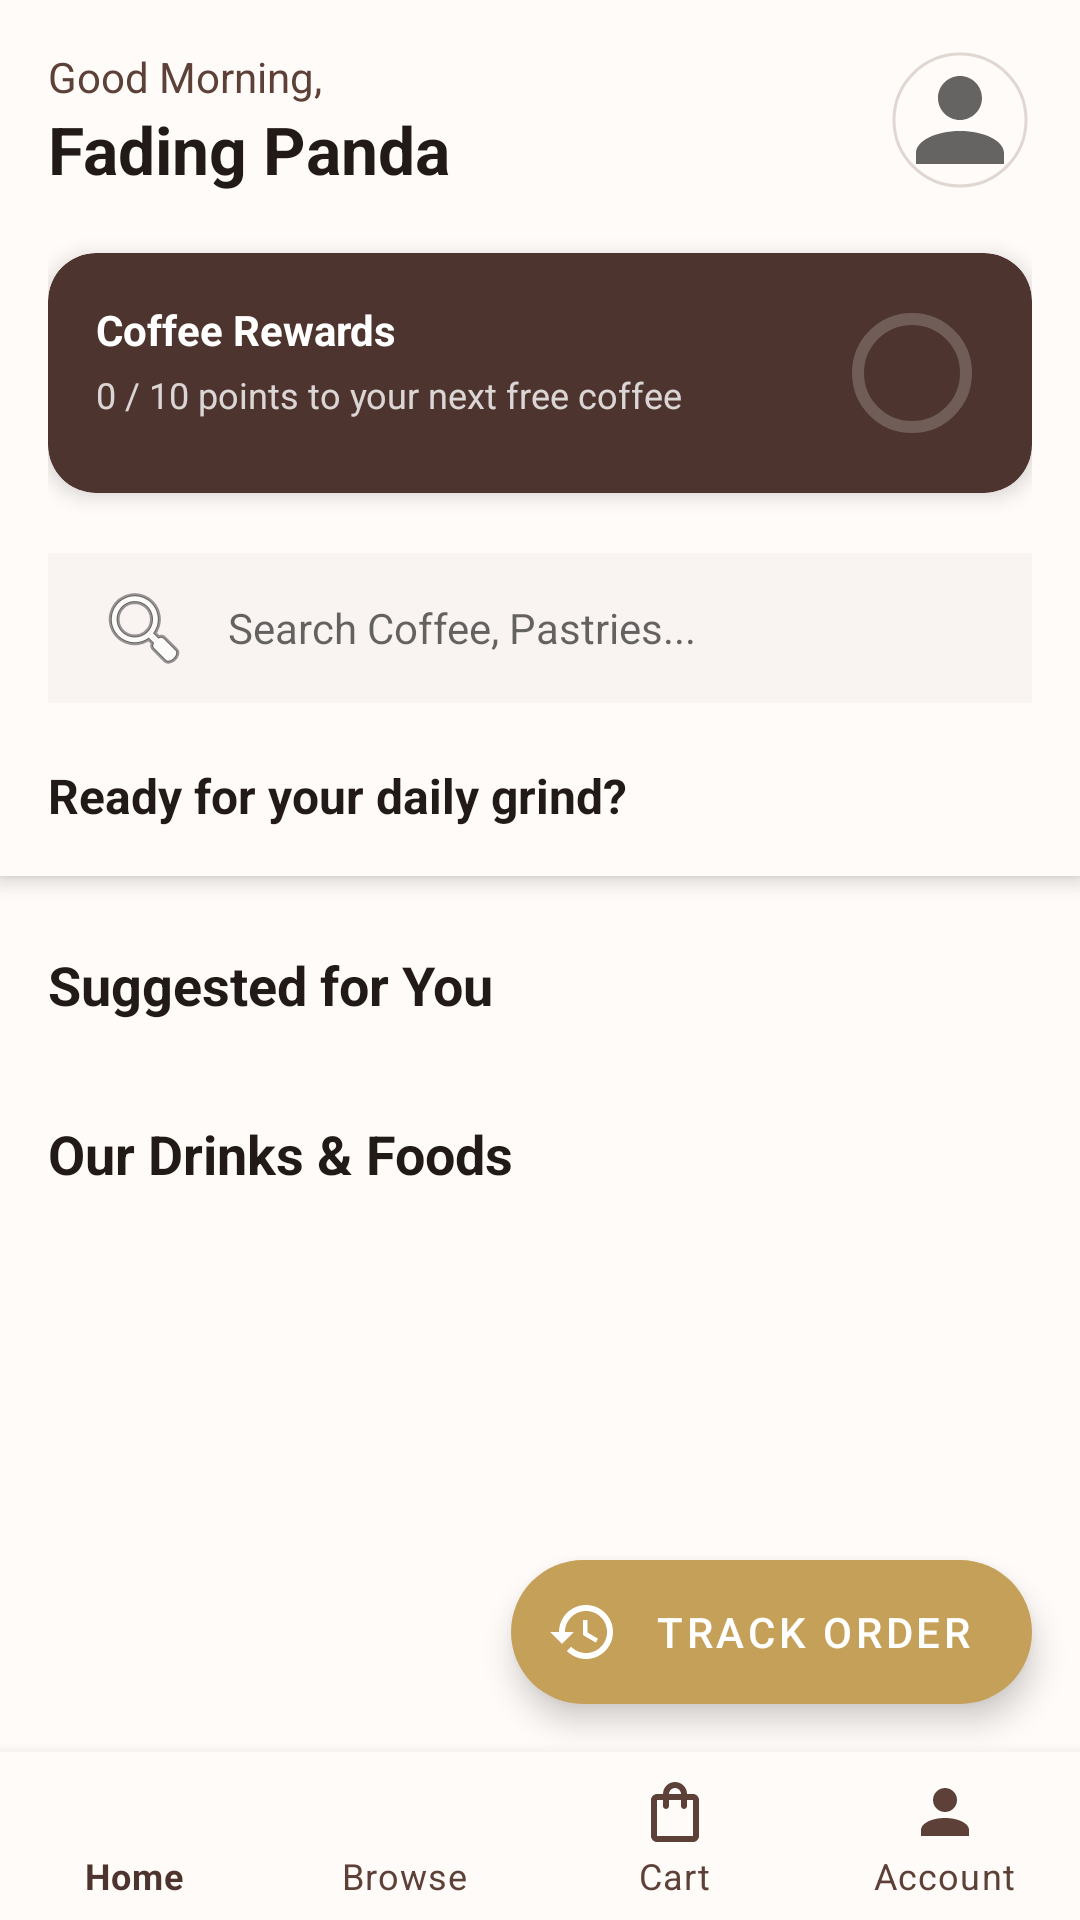

Where icons sit on this 1080 x 1920 app screen, as (x1, y1, x2, y2):
person: (893, 53, 1027, 187)
